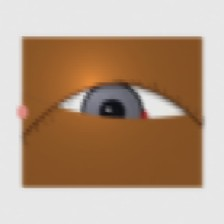hemorrhage_spot: (77, 84, 160, 150)
